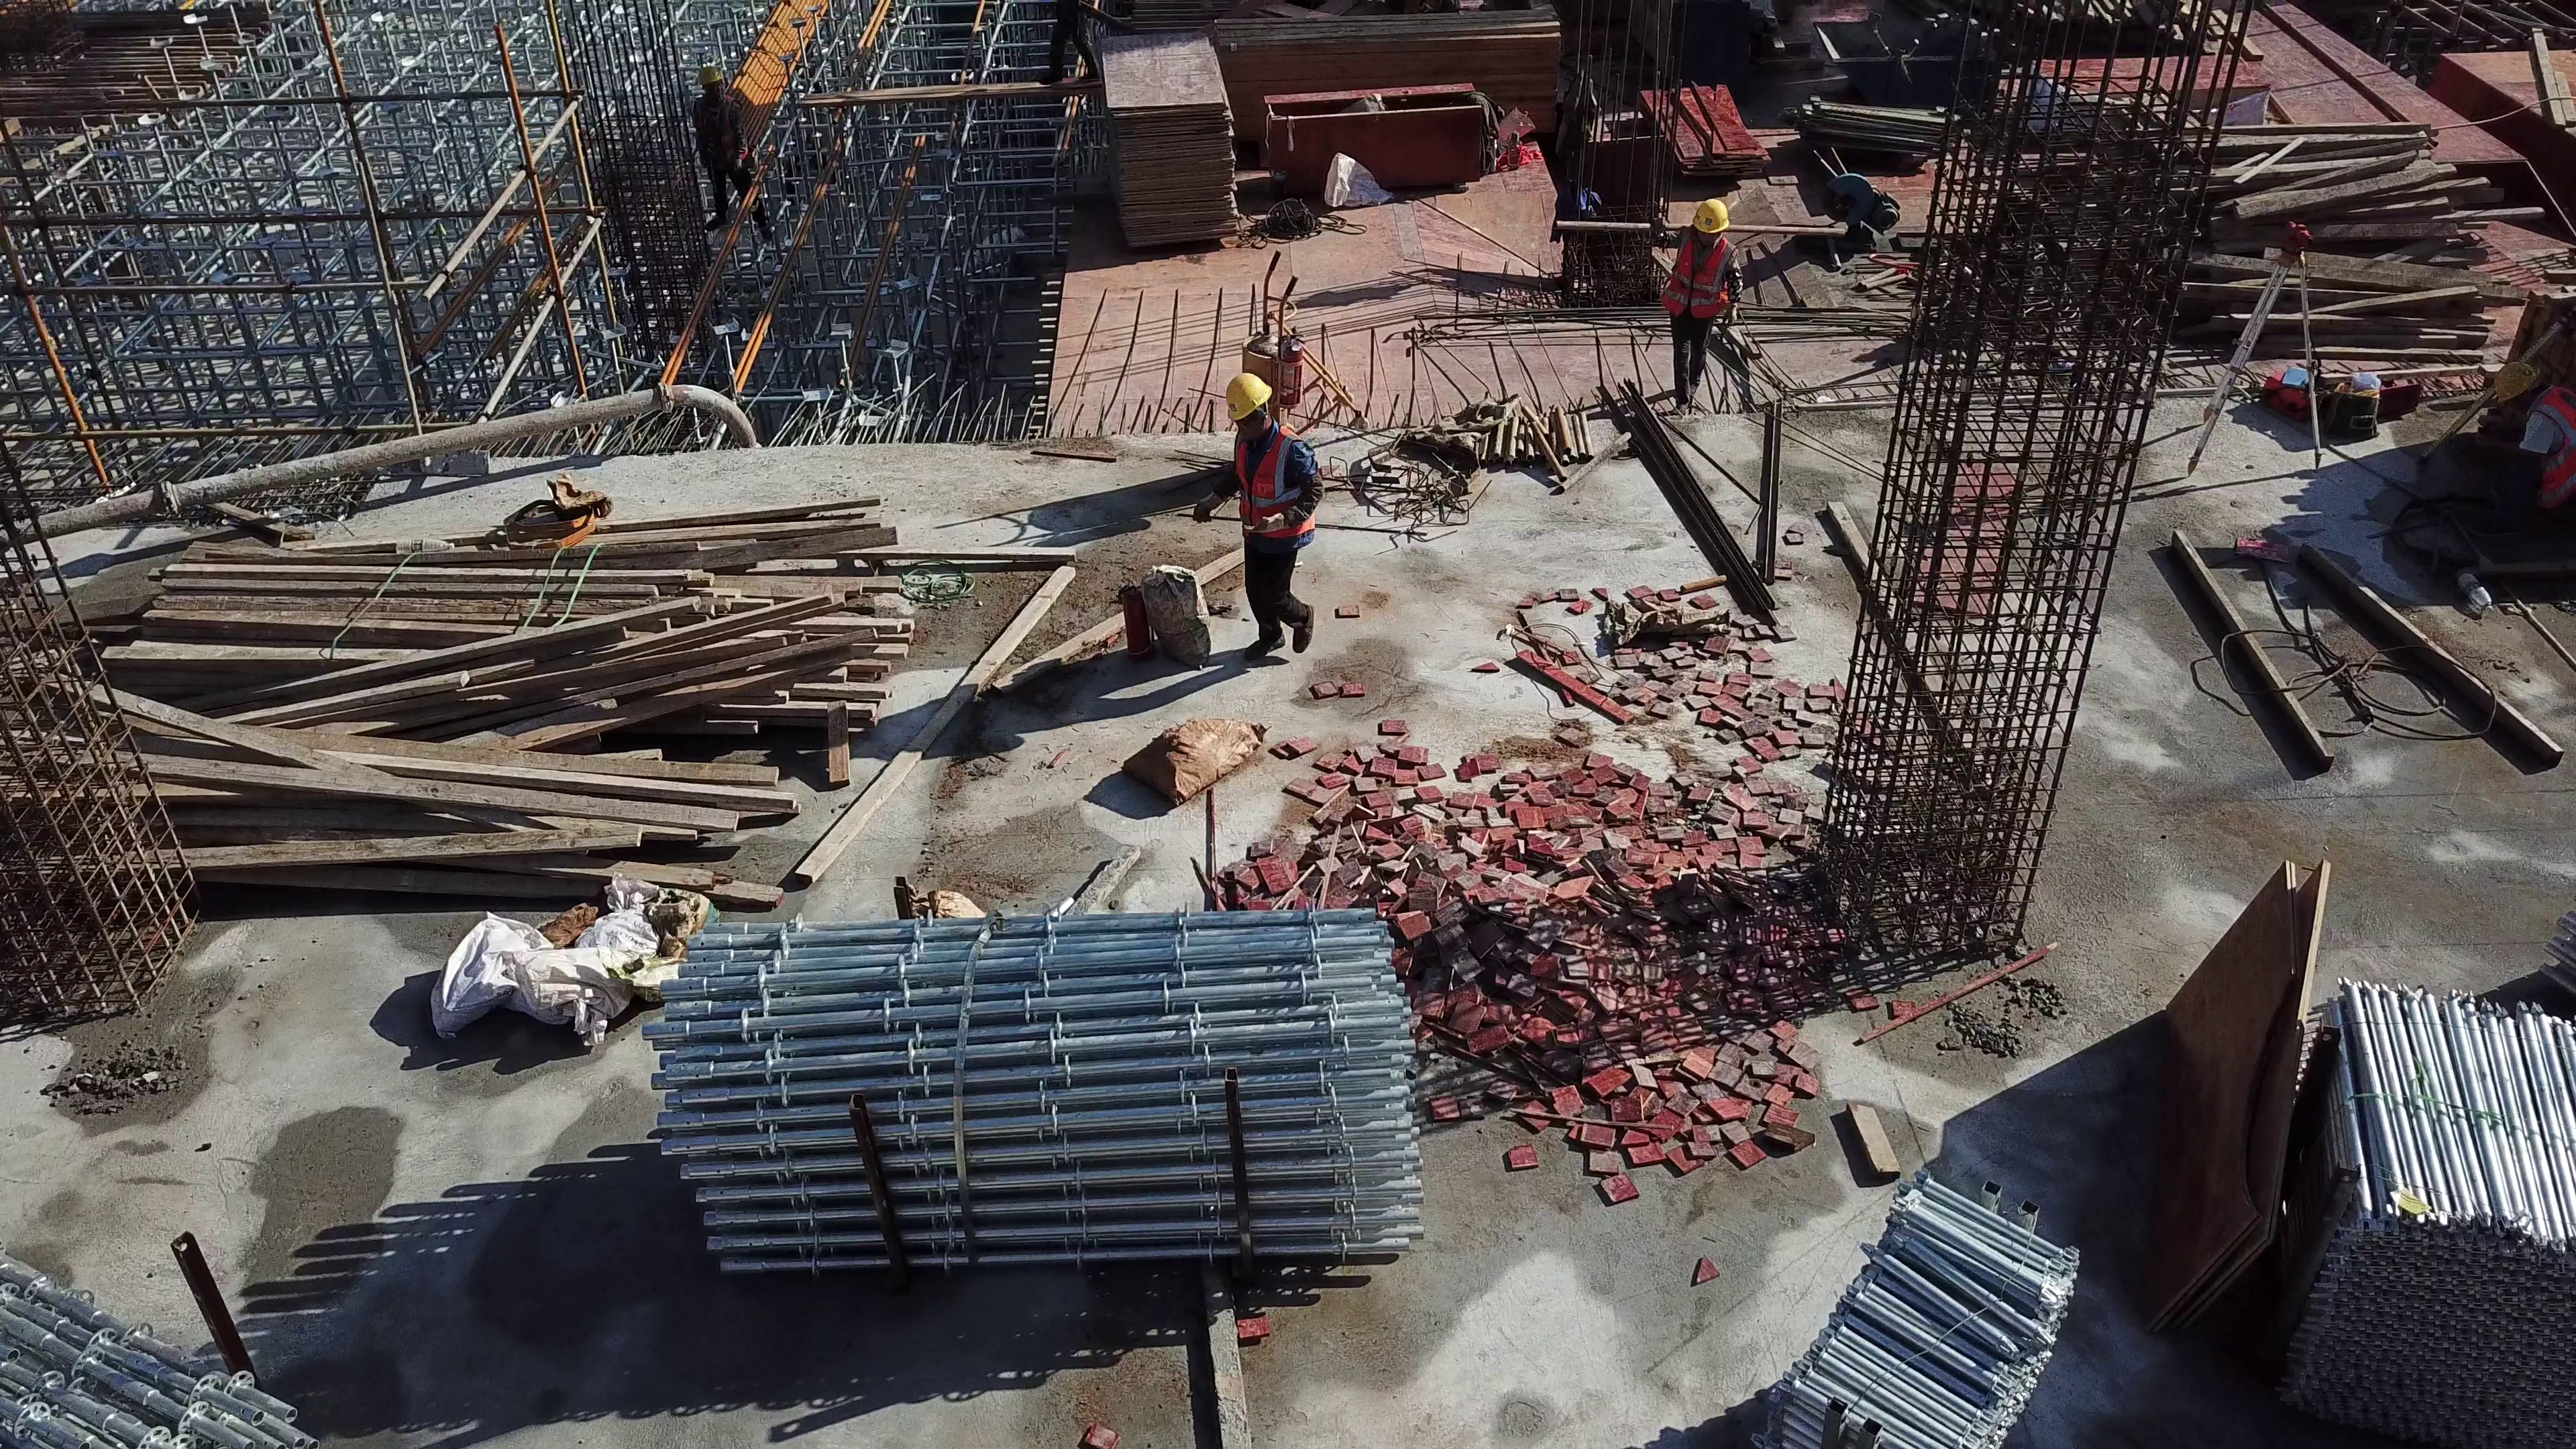board: (1079, 26, 1239, 248)
helmet: (2491, 345, 2533, 413), (1226, 372, 1274, 427), (1689, 199, 1731, 235), (694, 61, 727, 87)
person: (1184, 373, 1328, 661), (1642, 183, 1748, 420), (684, 54, 775, 237)
scaffold: (624, 887, 1430, 1276), (2298, 961, 2574, 1449), (1753, 1162, 2087, 1449), (3, 1240, 323, 1449)
vest: (1227, 423, 1310, 549), (1664, 235, 1731, 331)
wood: (32, 507, 958, 906)
